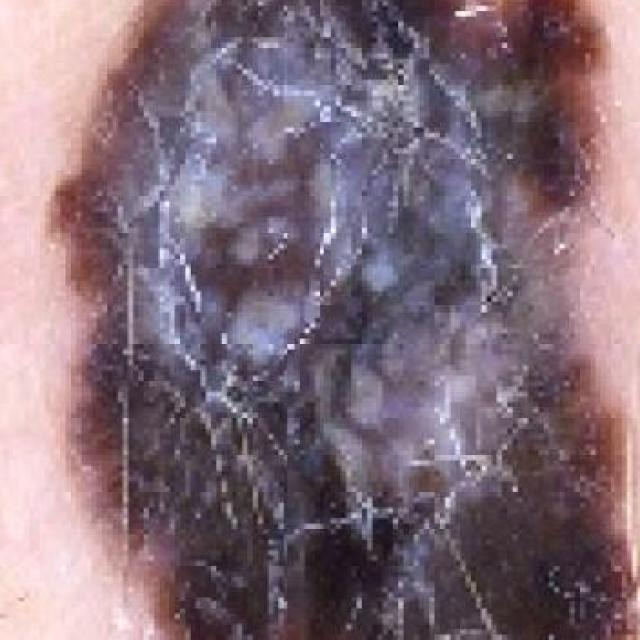MEL: (27, 0, 640, 640)
